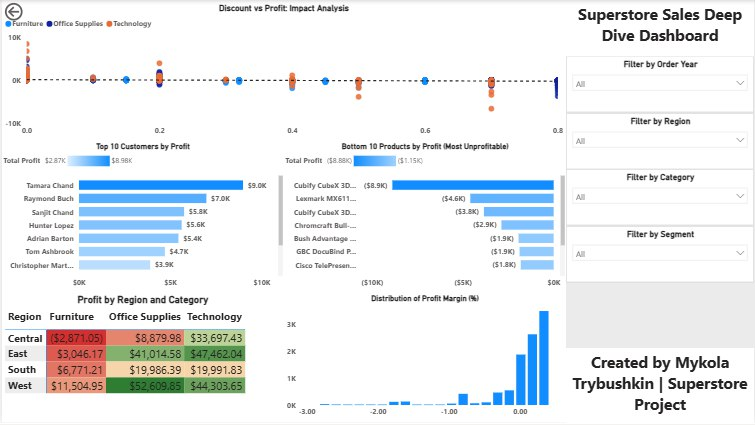

Layout of this report page (visuals, bound fields, positions):
{"tool":"powerbi","page":{"name":"Deep Dive","canvas":[1280,720],"ordinal":1},"visuals":[{"type":"scatterChart","title":"Discount vs Profit: Impact Analysis","fields":{"X":["Superstore Clean.Discount"],"Y":["Superstore Clean.Profit"],"Series":["Superstore Clean.Category"]},"box":[0,0,960,240],"z":0},{"type":"clusteredBarChart","title":"Top 10 Customers by Profit","fields":{"Category":["Superstore Clean.Customer Name"],"Y":["Own Measures.Total Profit"]},"box":[0,240,480,256],"z":1000},{"type":"clusteredColumnChart","title":"Distribution of Profit Margin (%)","fields":{"Category":["Superstore Clean.Profit Margin % (bins)"],"Y":["CountNonNull(Superstore Clean.Order ID)"]},"box":[480,496,480,224],"z":2000},{"type":"pivotTable","title":"Profit by Region and Category","fields":{"Rows":["Superstore Clean.Region"],"Columns":["Superstore Clean.Category"],"Values":["Own Measures.Total Profit"]},"box":[0,496,480,224],"z":3000},{"type":"actionButton","box":[0,0,100,40],"z":4000},{"type":"slicer","title":"Filter by Order Year","fields":{"Values":["Superstore Clean.Order Year"]},"box":[960,96,320,96],"z":5000},{"type":"slicer","title":"Filter by Region","fields":{"Values":["Superstore Clean.Region"]},"box":[960,192,320,96],"z":6000},{"type":"slicer","title":"Filter by Category","fields":{"Values":["Superstore Clean.Category"]},"box":[960,288,320,96],"z":7000},{"type":"textbox","title":"Superstore Sales Overview Dashboard","box":[960,0,320,96],"z":8000},{"type":"slicer","title":"Filter by Segment","fields":{"Values":["Superstore Clean.Segment"]},"box":[960,384,320,96],"z":9000},{"type":"clusteredBarChart","title":"Bottom 10 Products by Profit (Most Unprofitable)","fields":{"Y":["Own Measures.Total Profit"],"Category":["Superstore Clean.Product Name"]},"box":[480,240,480,256],"z":10000},{"type":"textbox","box":[960,592,320,128],"z":10001}]}

Visuals, with their boxes in screenshot pixels (x1, y1, x2, y2), scaled from the page's 1280x720 canvas onto the 755x425 screenshot:
"Discount vs Profit: Impact Analysis" scatterChart: detection(0, 0, 566, 142)
"Top 10 Customers by Profit" clusteredBarChart: detection(0, 142, 283, 293)
"Distribution of Profit Margin (%)" clusteredColumnChart: detection(283, 293, 566, 424)
"Profit by Region and Category" pivotTable: detection(0, 293, 283, 424)
actionButton: detection(0, 0, 59, 24)
"Filter by Order Year" slicer: detection(566, 57, 754, 113)
"Filter by Region" slicer: detection(566, 113, 754, 170)
"Filter by Category" slicer: detection(566, 170, 754, 227)
"Superstore Sales Overview Dashboard" textbox: detection(566, 0, 754, 57)
"Filter by Segment" slicer: detection(566, 227, 754, 283)
"Bottom 10 Products by Profit (Most Unprofitable)" clusteredBarChart: detection(283, 142, 566, 293)
textbox: detection(566, 349, 754, 424)
